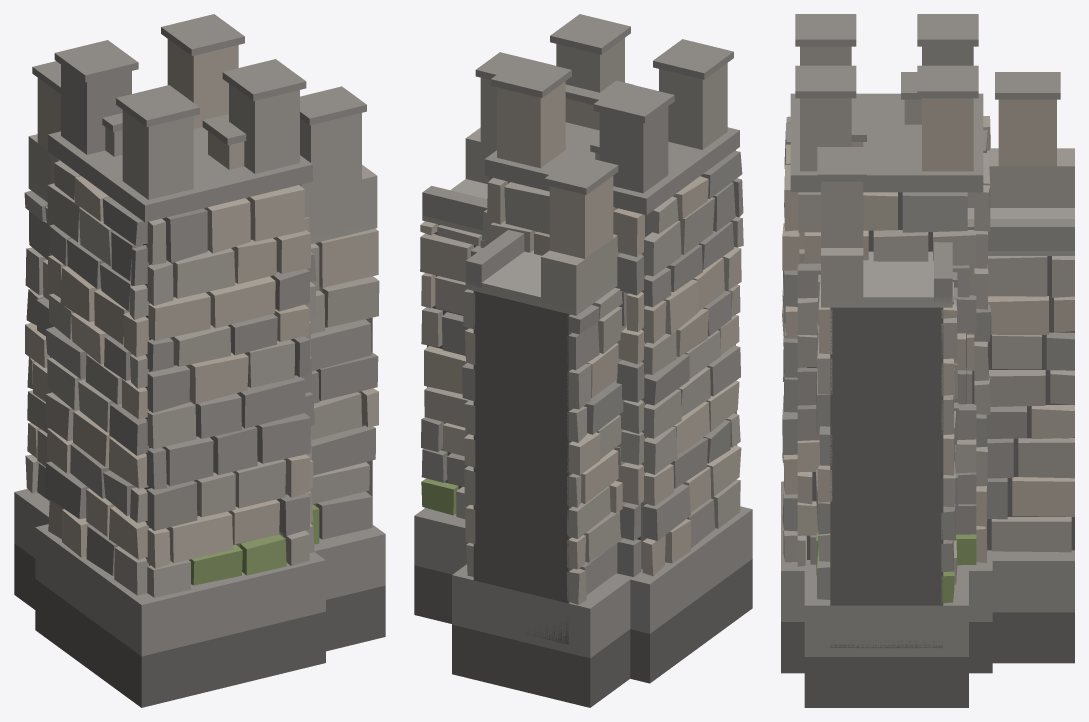
The model's file is SM_Wall_Corner.fbx.
3 views of the same model, side by side, from view 1: azimuth 30°, elevation 25°; view 2: azimuth 150°, elevation 25°; view 3: azimuth 270°, elevation 25° (orthographic). The views are drawn at different scales.
Visible parts, largest first — view 1: SM_Wall_Corner; view 2: SM_Wall_Corner; view 3: SM_Wall_Corner.
Part boxes in pixels (x1,y1,x2,y2): SM_Wall_Corner: (14,14,385,707); SM_Wall_Corner: (414,14,752,707); SM_Wall_Corner: (781,14,1074,707).
Bounding box in the file's own units: 3.12 × 6.76 × 3.12.
